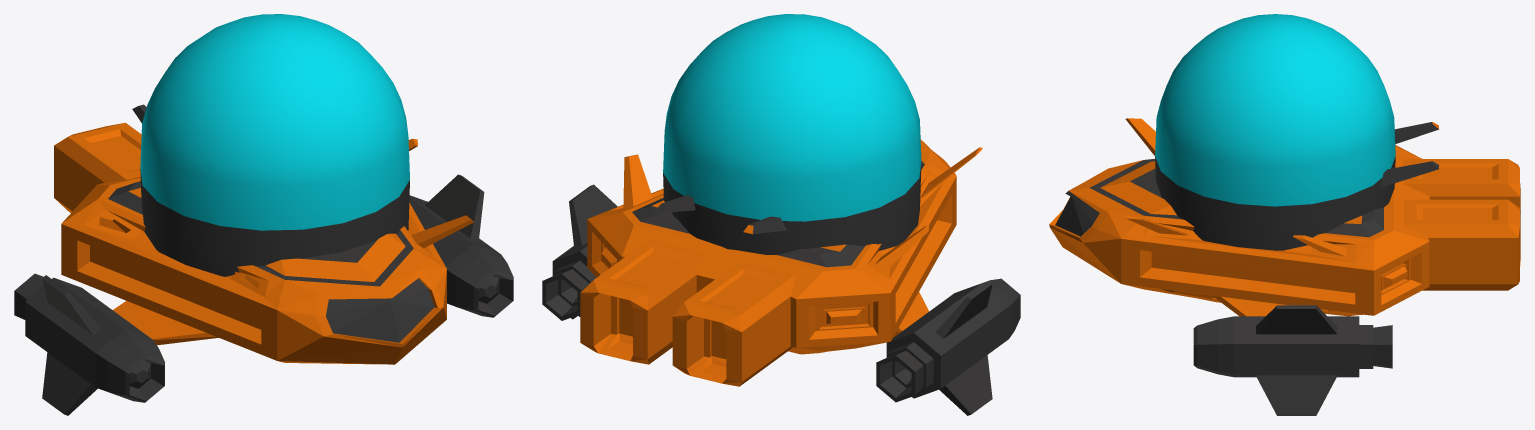
Rendered from bot_BOSS_4.fbx.
The picture shows the model from 3 angles, left to right: view 1: azimuth 30°, elevation 25°; view 2: azimuth 150°, elevation 25°; view 3: azimuth 270°, elevation 25°; orthographic projection. The views are drawn at different scales.
Visible parts, largest first — view 1: polySurface134; view 2: polySurface134; view 3: polySurface134.
Boxes of the visible parts, left/top/right/bottom form: polySurface134: left=14, top=14, right=513, bottom=415; polySurface134: left=542, top=14, right=1020, bottom=415; polySurface134: left=1049, top=14, right=1520, bottom=415.
Bounding box in the file's own units: 273 × 211 × 299.
